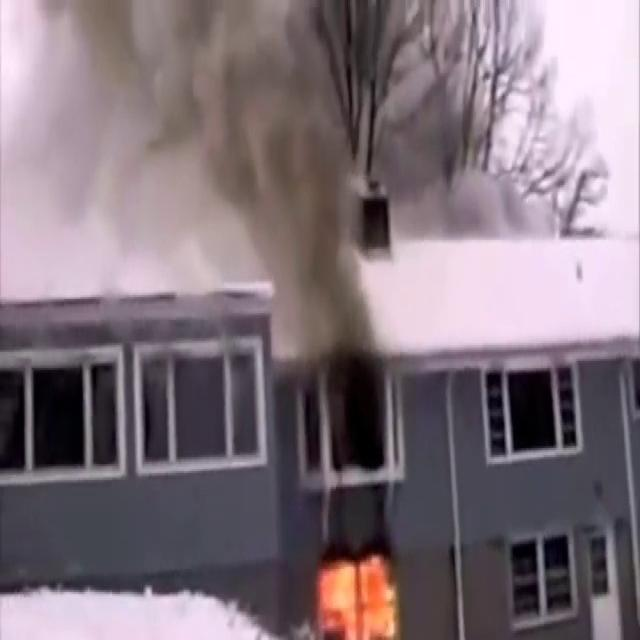Fire: (308, 538, 411, 638)
Smoke: (0, 0, 372, 297), (380, 51, 556, 247)
